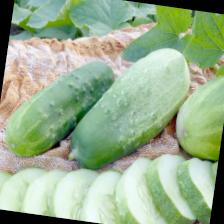cucumber: (66, 36, 195, 182), (1, 48, 118, 169)
